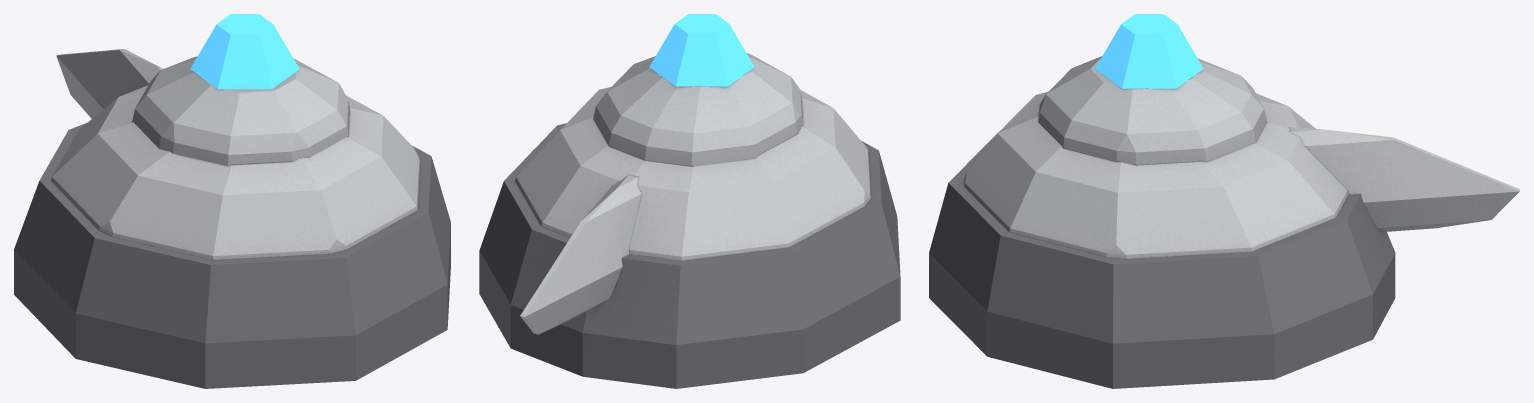
The model's file is armor_elbow_silver.glb.
3 views of the same model, side by side, from view 1: azimuth 30°, elevation 25°; view 2: azimuth 150°, elevation 25°; view 3: azimuth 270°, elevation 25° (orthographic). The views are drawn at different scales.
Visible parts, largest first — view 1: elbow; view 2: elbow; view 3: elbow.
Boxes of the visible parts, <box> form: elbow: <box>14,14,450,388</box>; elbow: <box>479,14,900,388</box>; elbow: <box>929,14,1519,388</box>.
Bounding box in the file's own units: 0.1438 × 0.1008 × 0.1974.
Materials: 3 (3 with a texture image).
